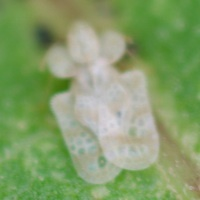insect: (47, 22, 158, 183)
